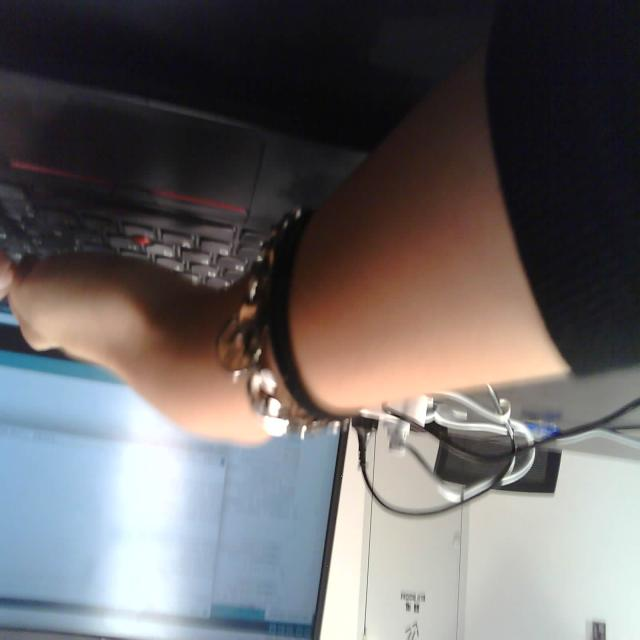keyboard-with-hands: (0, 64, 414, 380)
